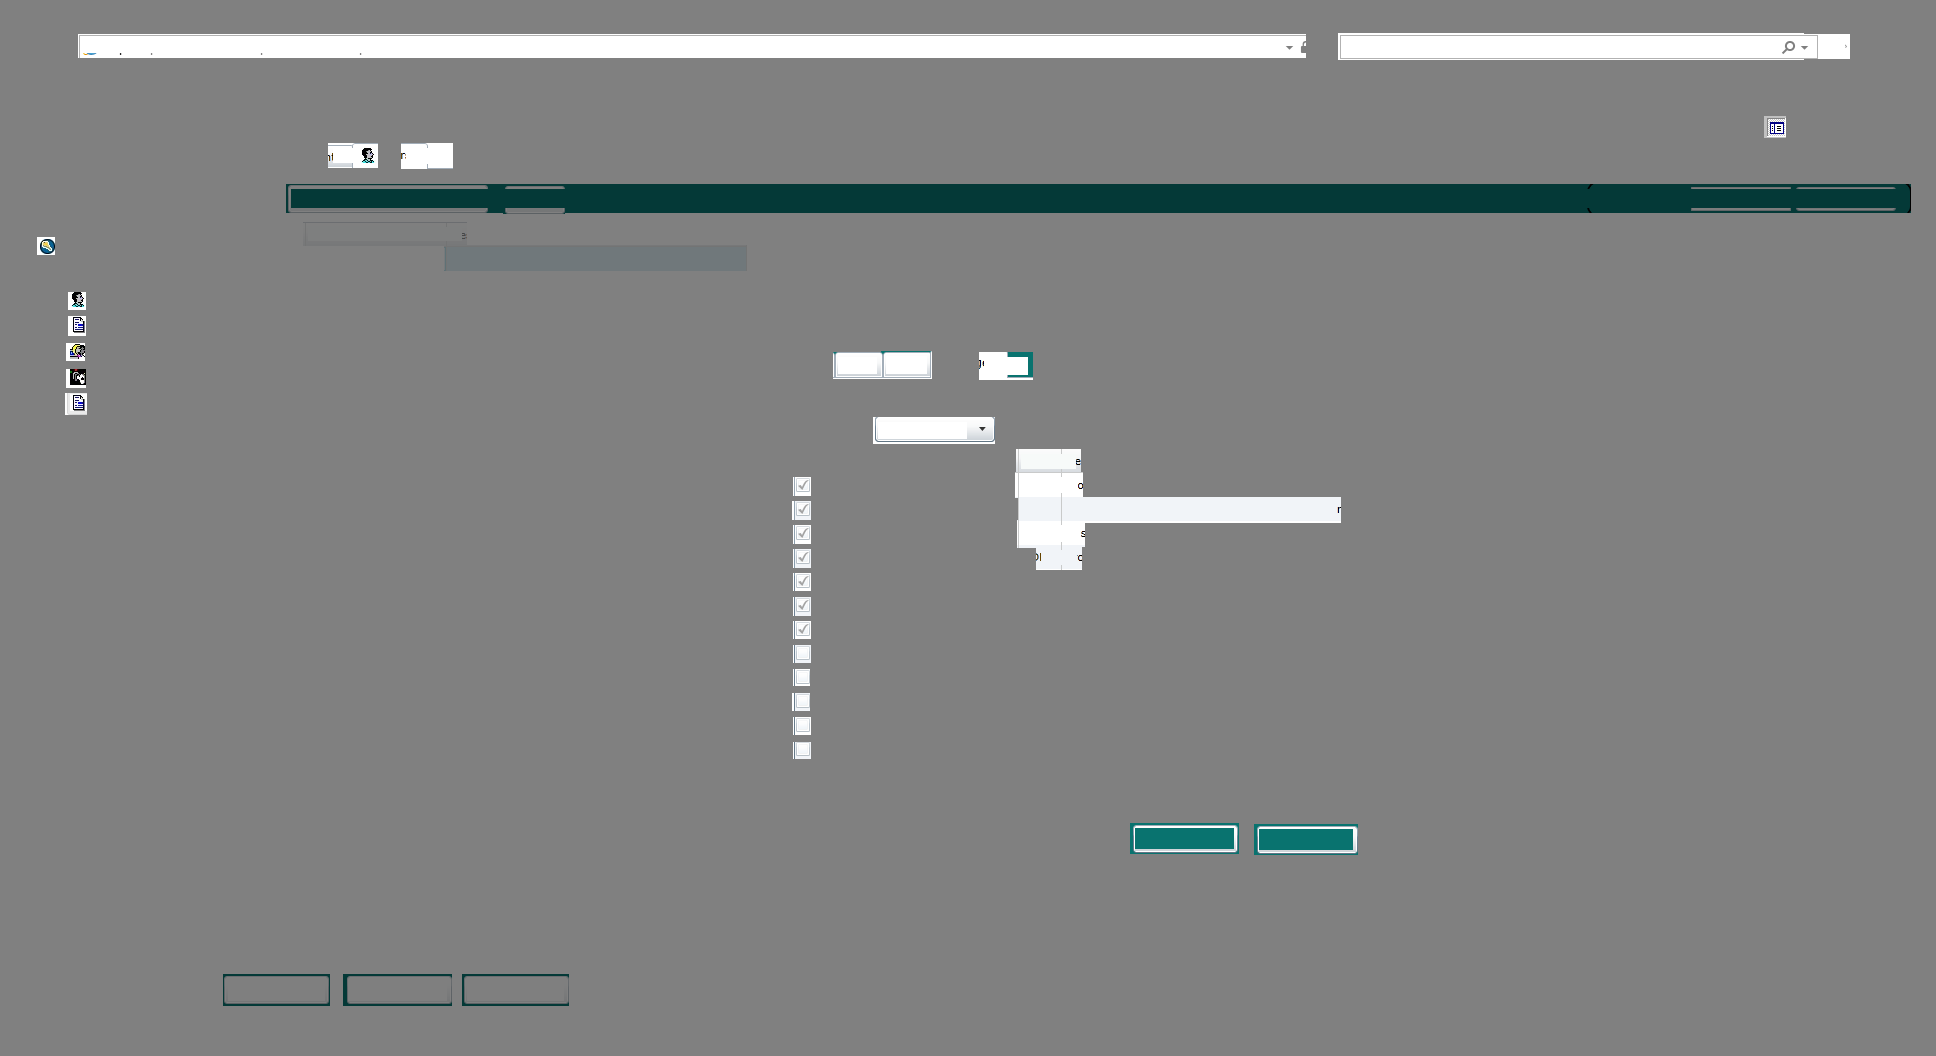CHECKBOX_CHECKED: (792, 619, 813, 639), (792, 594, 811, 614), (792, 572, 813, 590), (793, 548, 813, 566), (793, 524, 811, 542), (793, 476, 811, 494), (793, 499, 811, 518)
CHECKBOX_UNCHECKED: (791, 644, 811, 665), (792, 713, 811, 732), (792, 692, 810, 710), (793, 739, 811, 757), (792, 667, 810, 685)
